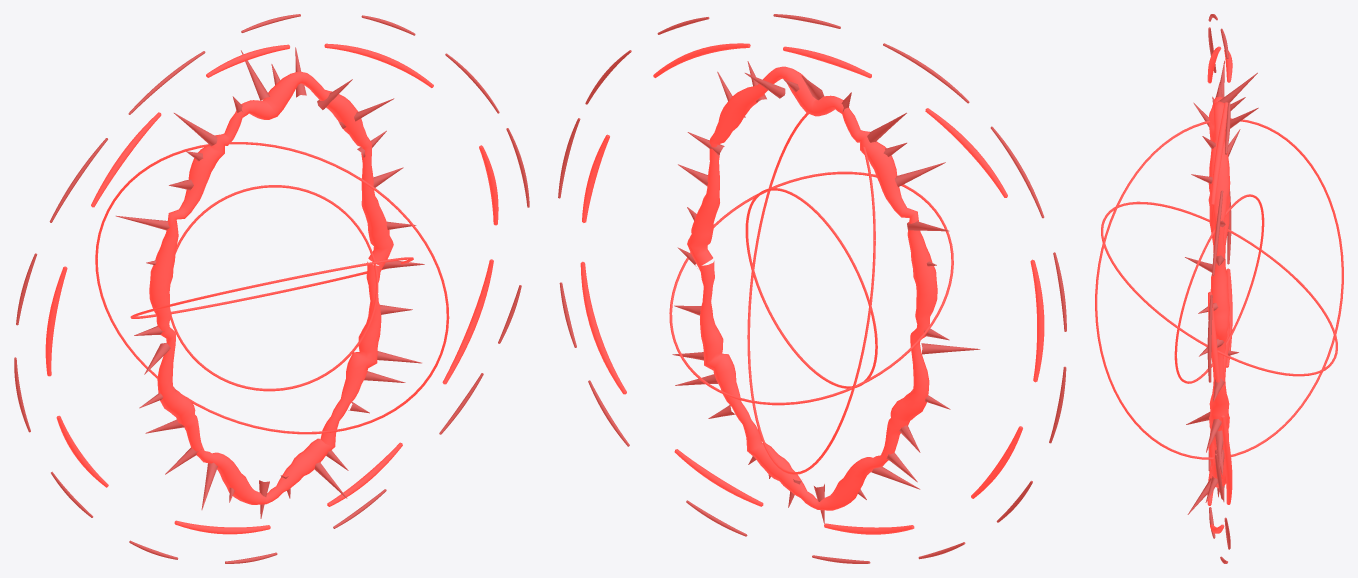
Rendered from portal_ring.glb.
The picture shows the model from 3 angles, left to right: view 1: azimuth 30°, elevation 25°; view 2: azimuth 150°, elevation 25°; view 3: azimuth 270°, elevation 25°; orthographic projection. The views are drawn at different scales.
Visible parts, largest first — view 1: ring_outer_rim, ring_outer_spikes, ring_gyro_3, ring_gyro_1, ring_gyro_2, ring_broken_a_09, ring_broken_a_02, ring_broken_a_05, ring_broken_a_04, ring_broken_a_07; view 2: ring_outer_rim, ring_outer_spikes, ring_gyro_3, ring_gyro_2, ring_gyro_1, ring_broken_a_09, ring_broken_a_05, ring_broken_a_04, ring_broken_a_08, ring_broken_a_02, ring_broken_a_03, ring_broken_a_01; view 3: ring_outer_rim, ring_gyro_3, ring_outer_spikes, ring_gyro_2, ring_gyro_1, ring_broken_a_02, ring_broken_a_09, ring_broken_a_01, ring_broken_b_01, ring_broken_b_02.
Boxes of the visible parts, <box> form: ring_outer_rim: <box>149,71,393,504</box>; ring_outer_spikes: <box>116,47,424,518</box>; ring_gyro_3: <box>95,142,449,434</box>; ring_gyro_1: <box>170,185,378,391</box>; ring_gyro_2: <box>130,257,413,318</box>; ring_broken_a_09: <box>442,259,493,384</box>; ring_broken_a_02: <box>324,43,433,87</box>; ring_broken_a_05: <box>45,266,67,376</box>; ring_broken_a_04: <box>91,112,161,207</box>; ring_broken_a_07: <box>174,520,270,534</box>; ring_outer_rim: <box>687,66,937,510</box>; ring_outer_spikes: <box>672,61,980,523</box>; ring_gyro_3: <box>747,113,875,474</box>; ring_gyro_2: <box>669,171,953,405</box>; ring_gyro_1: <box>745,188,877,388</box>; ring_broken_a_09: <box>580,261,626,394</box>; ring_broken_a_05: <box>1030,259,1044,382</box>; ring_broken_a_04: <box>925,108,1007,197</box>; ring_broken_a_08: <box>674,449,763,506</box>; ring_broken_a_02: <box>653,43,750,77</box>; ring_broken_a_03: <box>783,46,871,78</box>; ring_broken_a_01: <box>582,134,609,222</box>; ring_outer_rim: <box>1208,96,1230,488</box>; ring_gyro_3: <box>1095,118,1343,459</box>; ring_outer_spikes: <box>1185,60,1258,514</box>; ring_gyro_2: <box>1101,201,1337,376</box>; ring_gyro_1: <box>1174,194,1264,383</box>; ring_broken_a_02: <box>1210,102,1227,205</box>; ring_broken_a_09: <box>1221,415,1232,504</box>; ring_broken_a_01: <box>1208,292,1220,382</box>; ring_broken_b_01: <box>1207,294,1212,382</box>; ring_broken_b_02: <box>1212,190,1223,275</box>.
Bounding box in the file's own units: 13.82 × 13.88 × 6.28.
